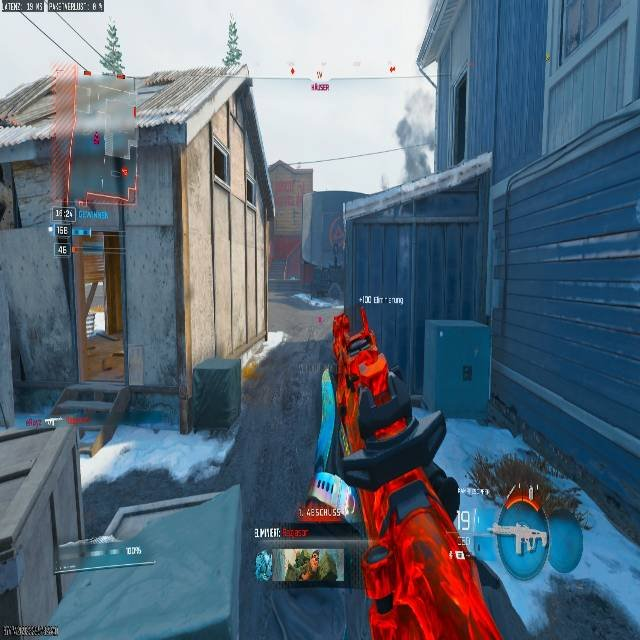head: (346, 331, 375, 358)
